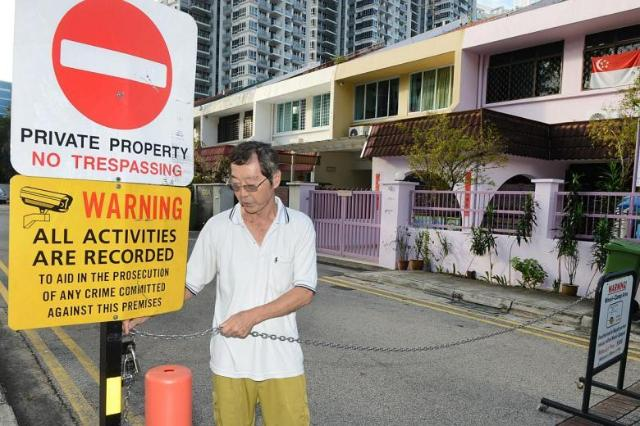B2: (51, 1, 173, 128)
